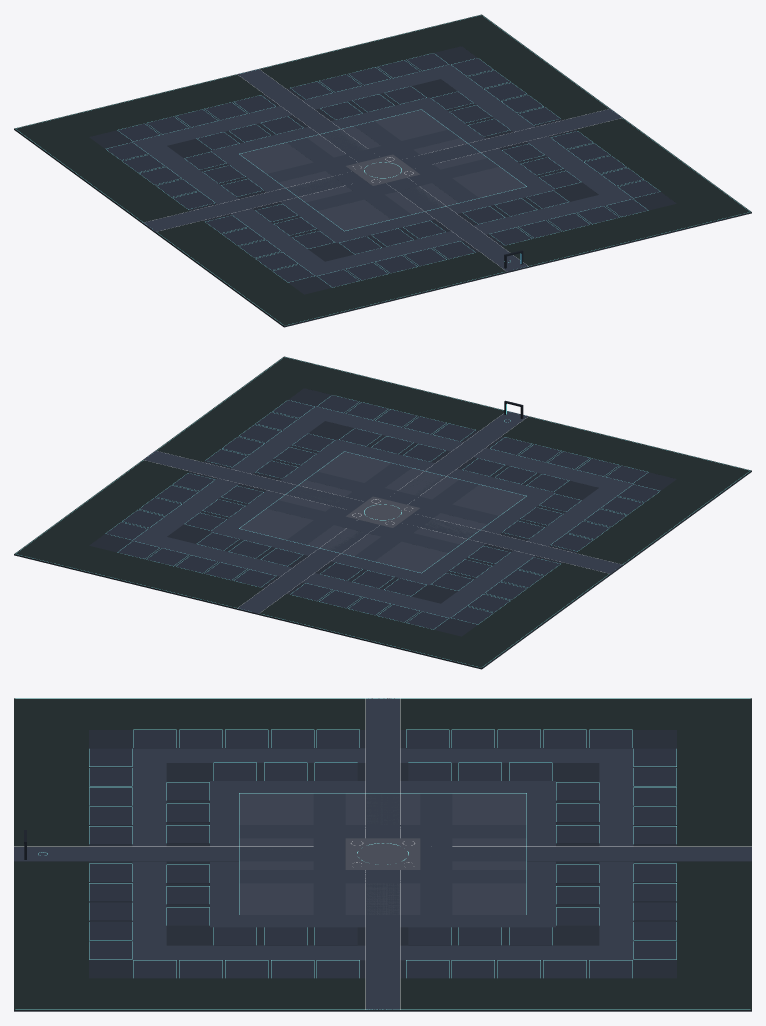
The picture shows the model from 3 angles, top to bottom: view 1: azimuth 30°, elevation 25°; view 2: azimuth 150°, elevation 25°; view 3: azimuth 270°, elevation 25°; orthographic projection. The views are drawn at different scales.
Parts seen in each view (by area): view 1: district_arcade.lod1; view 2: district_arcade.lod1; view 3: district_arcade.lod1.
Part boxes in pixels (<box>): district_arcade.lod1: <box>14,14,751,327</box>; district_arcade.lod1: <box>14,356,751,669</box>; district_arcade.lod1: <box>14,698,751,1011</box>.
Bounding box in the file's own units: 256 × 7.63 × 256.
